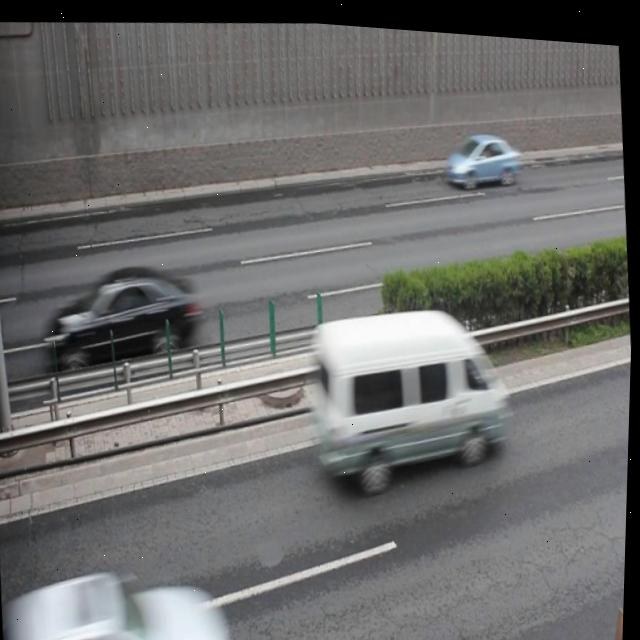car: (26, 552, 230, 640), (49, 256, 202, 367), (442, 120, 520, 184)
truck: (305, 287, 515, 492)
